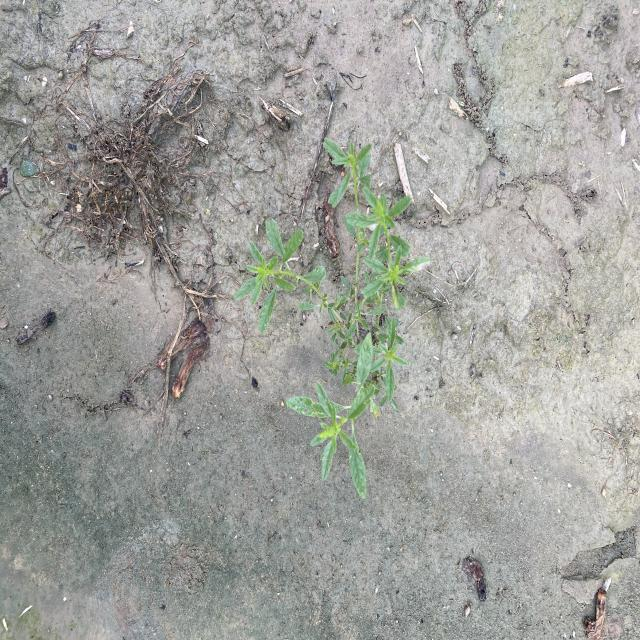Waterhemp: (231, 137, 434, 503)
